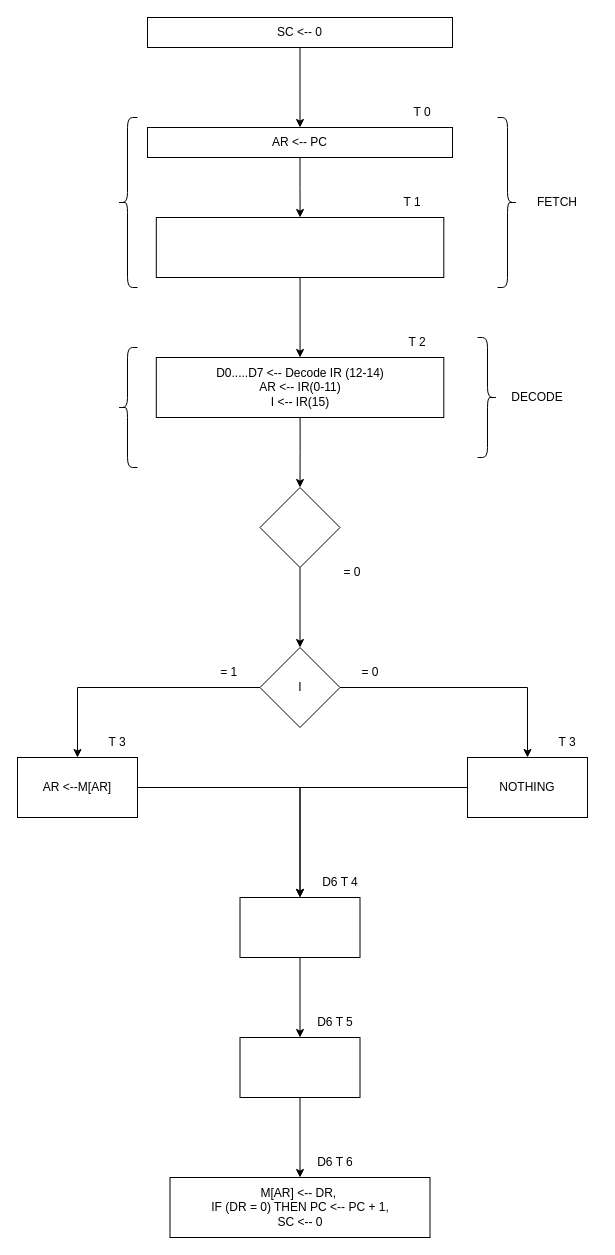
The diagram is 615 pixels wide and 1255 high, and some of its shapes have lost their labels. Each missing label, with the centre of its shape:
"D 7" goes at point 299,527.
"DR <-- DR + 1" goes at point 299,1067.
"DR <-- M[AR]" goes at point 299,927.
"IR <-- M[AR] PC <-- PC+1" goes at point 299,247.
